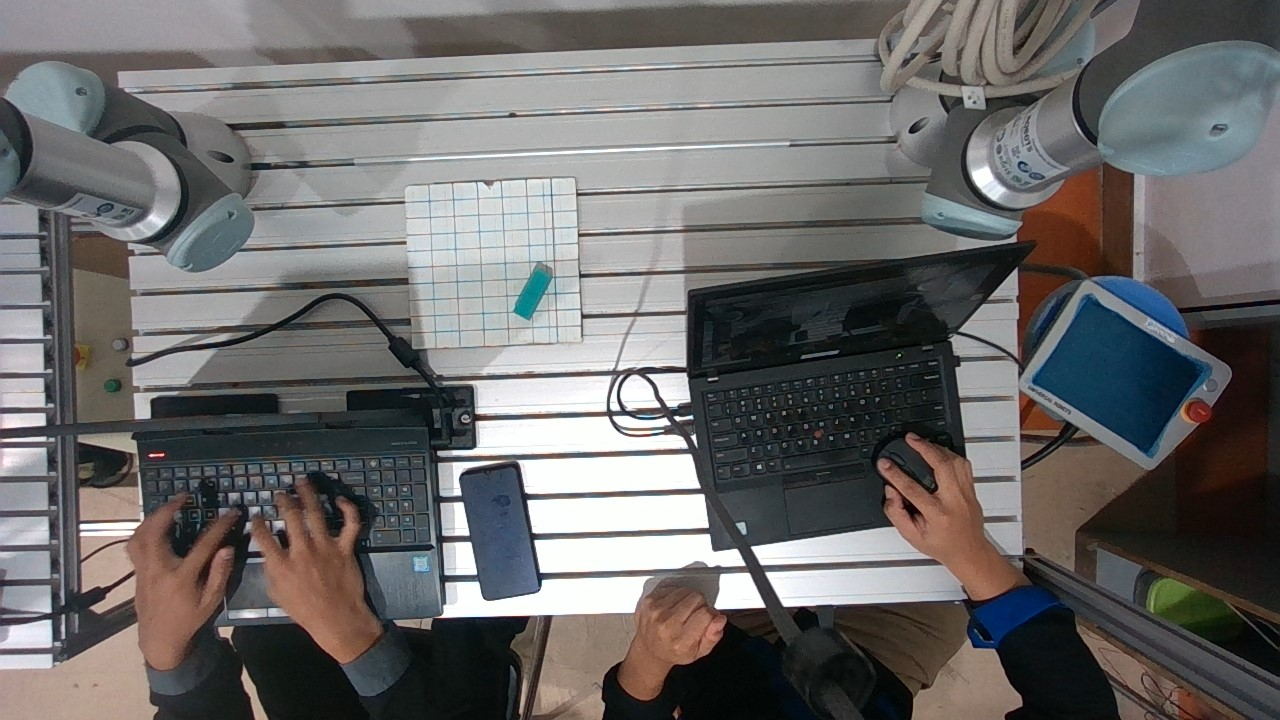box: (517, 253, 555, 325)
